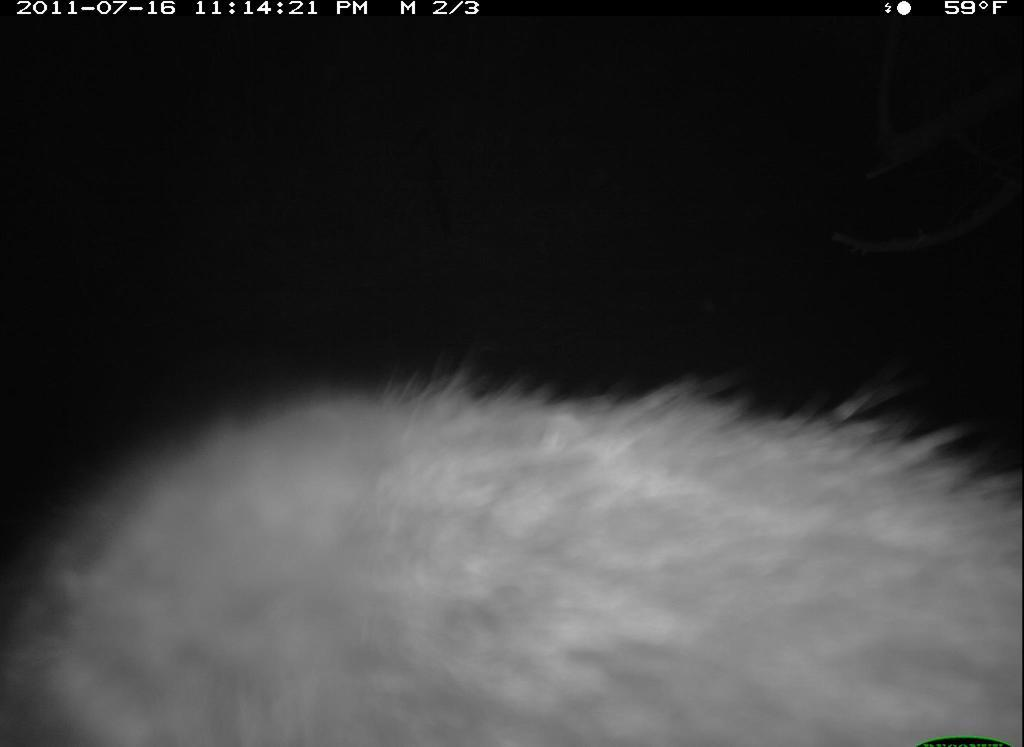raccoon: (7, 333, 1021, 747)
